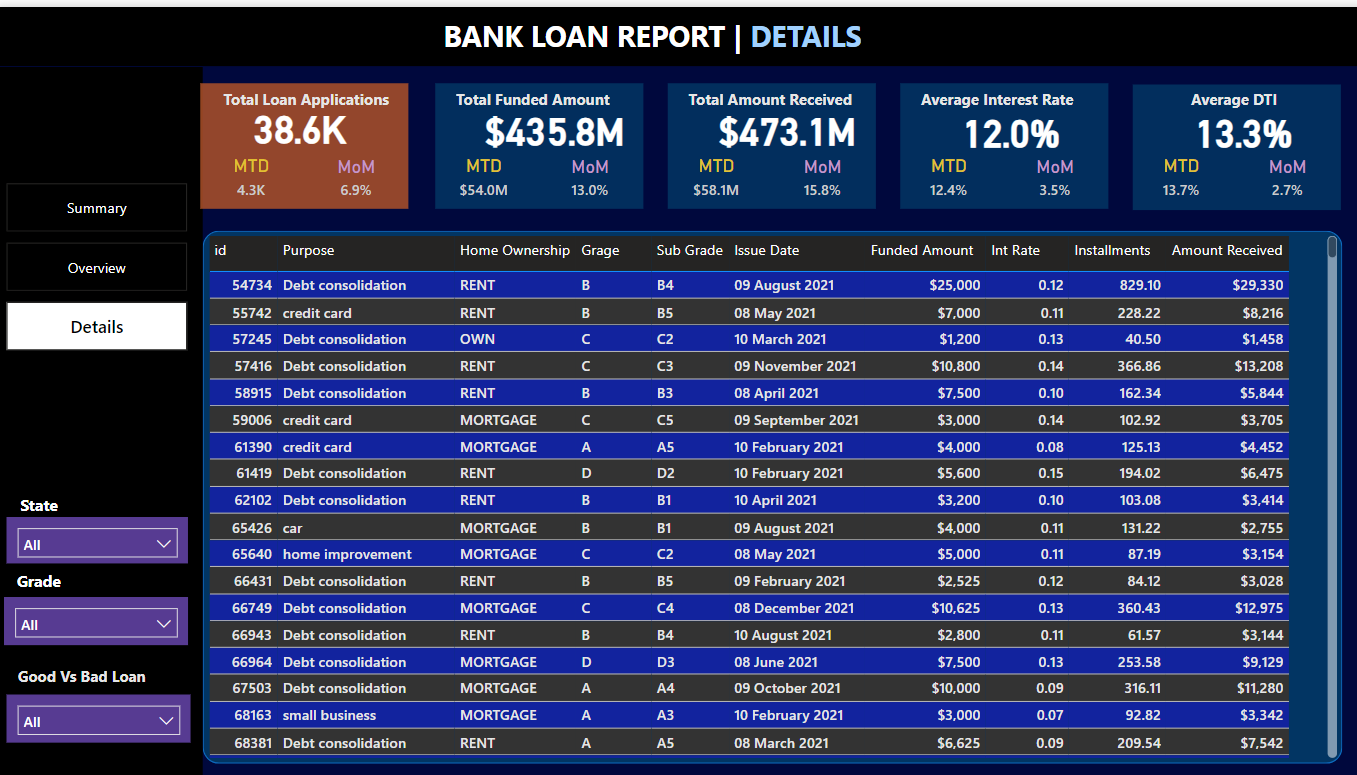

What the dashboard file says about the page in this screenshot:
{"tool":"powerbi","page":{"name":"Details","canvas":[1280,720],"ordinal":2},"visuals":[{"type":"shape","box":[0,55.5,194.2,664.5],"z":0},{"type":"shape","box":[410.2,71.3,193.7,117],"z":0,"group":"g3"},{"type":"shape","box":[626.7,71.3,193.7,117],"z":0,"group":"g4"},{"type":"shape","box":[843.2,71.3,193.7,117],"z":0,"group":"g5"},{"type":"shape","box":[192.3,71.4,193.7,117],"z":0,"group":"g1"},{"type":"shape","box":[1059.7,71.9,193.7,117],"z":0,"group":"g6"},{"type":"shape","box":[0,0,1280.3,55],"z":1000},{"type":"card","fields":{"Values":["bank_loan_data.Total Loan Application"]},"box":[228.8,76.7,113.6,69.9],"z":1000,"group":"g1"},{"type":"card","fields":{"Values":["bank_loan_data.Total Funded Amount"]},"box":[447.1,82,147.9,64.6],"z":1000,"group":"g3"},{"type":"card","fields":{"Values":["bank_loan_data.Total Amount Received"]},"box":[663.6,82,147.9,64.6],"z":1000,"group":"g4"},{"type":"card","fields":{"Values":["bank_loan_data.Avg Interest Rate"]},"box":[872.1,82.5,147.9,64.6],"z":1000,"group":"g5"},{"type":"card","fields":{"Values":["bank_loan_data.Avg DTI"]},"box":[1088.6,83.1,147.9,64.6],"z":1000,"group":"g6"},{"type":"textbox","box":[204.7,71.3,197.8,40.3],"z":2000,"group":"g1"},{"type":"textbox","box":[420.9,71.3,197.8,40.3],"z":2000,"group":"g3"},{"type":"textbox","box":[637.4,71.3,197.8,40.3],"z":2000,"group":"g4"},{"type":"textbox","box":[853.9,71.3,197.8,40.3],"z":2000,"group":"g5"},{"type":"textbox","box":[1070.1,71.3,169.4,40.3],"z":2000,"group":"g6"},{"type":"textbox","box":[12.1,447.4,95.3,31.4],"z":2000,"group":"g7"},{"type":"textbox","box":[12.1,517.4,83.2,31.4],"z":2000},{"type":"card","title":"MTD","fields":{"Values":["bank_loan_data.MTD Loan Applications"]},"box":[204.7,137.2,69.5,51.1],"z":3000,"group":"g1"},{"type":"card","title":"MTD","fields":{"Values":["bank_loan_data.MTD Funded Applications"]},"box":[420.9,137.2,69.5,51.1],"z":3000,"group":"g3"},{"type":"card","title":"MTD","fields":{"Values":["bank_loan_data.MTD Total Amount Received"]},"box":[637.4,137.2,69.5,51.1],"z":3000,"group":"g4"},{"type":"card","title":"MTD","fields":{"Values":["bank_loan_data.MTD Average Interest Rate"]},"box":[853.9,137.2,69.5,51.1],"z":3000,"group":"g5"},{"type":"card","title":"MTD","fields":{"Values":["bank_loan_data.MTD Average DTI"]},"box":[1070.4,137.8,69.5,51.1],"z":3000,"group":"g6"},{"type":"textbox","box":[9.6,607.8,156.8,31.4],"z":3000},{"type":"group","id":"g1","title":"Group 2","box":[192.3,71.3,210.2,117.1],"z":3005,"group":"g2"},{"type":"card","title":"MoM","fields":{"Values":["bank_loan_data.MoM Loan Applications"]},"box":[303,138.2,69.5,49.8],"z":4000,"group":"g1"},{"type":"card","title":"MoM","fields":{"Values":["bank_loan_data.MoM Total Funded Amount"]},"box":[519.1,138.2,69.5,49.8],"z":4000,"group":"g3"},{"type":"card","title":"MoM","fields":{"Values":["bank_loan_data.MoM Total Amount Received"]},"box":[735.6,138.2,69.5,49.8],"z":4000,"group":"g4"},{"type":"card","title":"MoM","fields":{"Values":["bank_loan_data.MoM Average Interest Rate"]},"box":[952.1,138.2,69.5,49.8],"z":4000,"group":"g5"},{"type":"card","title":"MoM","fields":{"Values":["bank_loan_data.MoM Average DTI"]},"box":[1168.6,138.9,69.5,49.8],"z":4000,"group":"g6"},{"type":"shape","box":[194.2,208.6,1060.1,495.7],"z":4000},{"type":"textbox","box":[412.9,4,520.4,45.7],"z":5000},{"type":"group","id":"g2","title":"Group 1","box":[192.3,71.3,210.2,117.1],"z":6000},{"type":"group","id":"g3","title":"Group 2","box":[410.2,71.3,208.4,117],"z":7000},{"type":"group","id":"g4","title":"Group 2","box":[626.7,71.3,208.4,117],"z":8000},{"type":"group","id":"g5","title":"Group 2","box":[843.2,71.3,208.4,117],"z":9000},{"type":"group","id":"g6","title":"Group 2","box":[1059.7,71.3,193.7,117],"z":10000},{"type":"slicer","fields":{"Values":["bank_loan_data.address_state"]},"box":[12.1,474,168.8,43.4],"z":11000},{"type":"slicer","fields":{"Values":["bank_loan_data.grade"]},"box":[9.6,548.7,171.3,44.6],"z":12000},{"type":"slicer","fields":{"Values":["bank_loan_data.Good Vs Bad Loan"]},"box":[12.1,639.2,171.3,44.6],"z":13000},{"type":"group","id":"g7","title":"Group 2","box":[12.1,447.4,95.3,31.4],"z":14000},{"type":"tableEx","fields":{"Values":["bank_loan_data.id","bank_loan_data.purpose","bank_loan_data.home_ownership","bank_loan_data.grade","bank_loan_data.sub_grade","bank_loan_data.issue_date","bank_loan_data.Total Funded Amount","Sum(bank_loan_data.int_rate)","Sum(bank_loan_data.installment)","bank_loan_data.Total Amount Received"]},"box":[194.2,208.6,1060.1,495.7],"z":15000},{"type":"pageNavigator","box":[12.1,164,168.8,158],"z":16000}]}

Visuals, with their boxes in screenshot pixels (x1, y1, x2, y2), scaled from the page's 1280x720 canvas onto the 1357x775 screenshot:
shape: left=0, top=60, right=206, bottom=774
shape: left=435, top=77, right=640, bottom=203
shape: left=664, top=77, right=870, bottom=203
shape: left=894, top=77, right=1099, bottom=203
shape: left=204, top=77, right=409, bottom=203
shape: left=1123, top=77, right=1329, bottom=203
shape: left=0, top=0, right=1356, bottom=59
card - bank_loan_data.Total Loan Application: left=243, top=83, right=363, bottom=158
card - bank_loan_data.Total Funded Amount: left=474, top=88, right=631, bottom=158
card - bank_loan_data.Total Amount Received: left=704, top=88, right=860, bottom=158
card - bank_loan_data.Avg Interest Rate: left=925, top=89, right=1081, bottom=158
card - bank_loan_data.Avg DTI: left=1154, top=89, right=1311, bottom=159
textbox: left=217, top=77, right=427, bottom=120
textbox: left=446, top=77, right=656, bottom=120
textbox: left=676, top=77, right=885, bottom=120
textbox: left=905, top=77, right=1115, bottom=120
textbox: left=1134, top=77, right=1314, bottom=120
textbox: left=13, top=482, right=114, bottom=515
textbox: left=13, top=557, right=101, bottom=591
"MTD" card: left=217, top=148, right=291, bottom=203
"MTD" card: left=446, top=148, right=520, bottom=203
"MTD" card: left=676, top=148, right=749, bottom=203
"MTD" card: left=905, top=148, right=979, bottom=203
"MTD" card: left=1135, top=148, right=1208, bottom=203
textbox: left=10, top=654, right=176, bottom=688
"Group 2" group: left=204, top=77, right=427, bottom=203
"MoM" card: left=321, top=149, right=395, bottom=202
"MoM" card: left=550, top=149, right=624, bottom=202
"MoM" card: left=780, top=149, right=854, bottom=202
"MoM" card: left=1009, top=149, right=1083, bottom=202
"MoM" card: left=1239, top=150, right=1313, bottom=203
shape: left=206, top=225, right=1330, bottom=758
textbox: left=438, top=4, right=989, bottom=53
"Group 1" group: left=204, top=77, right=427, bottom=203
"Group 2" group: left=435, top=77, right=656, bottom=203
"Group 2" group: left=664, top=77, right=885, bottom=203
"Group 2" group: left=894, top=77, right=1115, bottom=203
"Group 2" group: left=1123, top=77, right=1329, bottom=203
slicer - bank_loan_data.address_state: left=13, top=510, right=192, bottom=557
slicer - bank_loan_data.grade: left=10, top=591, right=192, bottom=639
slicer - bank_loan_data.Good Vs Bad Loan: left=13, top=688, right=194, bottom=736
"Group 2" group: left=13, top=482, right=114, bottom=515
tableEx - bank_loan_data.id x bank_loan_data.purpose: left=206, top=225, right=1330, bottom=758
pageNavigator: left=13, top=177, right=192, bottom=347
